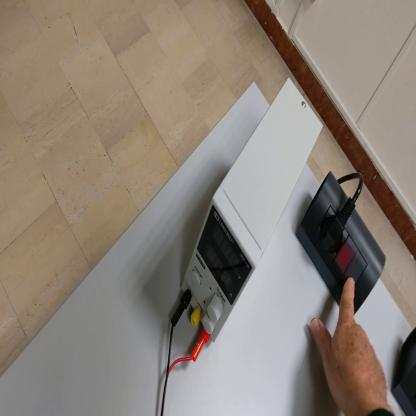hand: (310, 275, 387, 415)
power supply: (181, 75, 330, 348)
socket: (295, 172, 386, 316), (393, 328, 416, 415)
